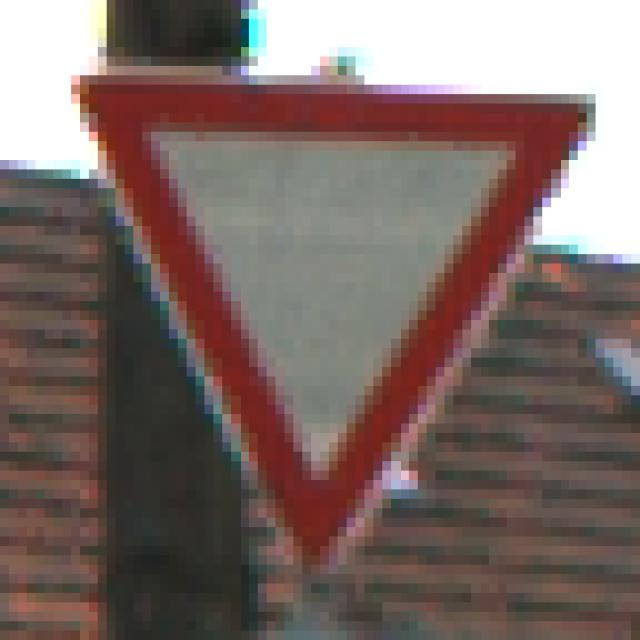Give Way: (63, 58, 588, 585)
